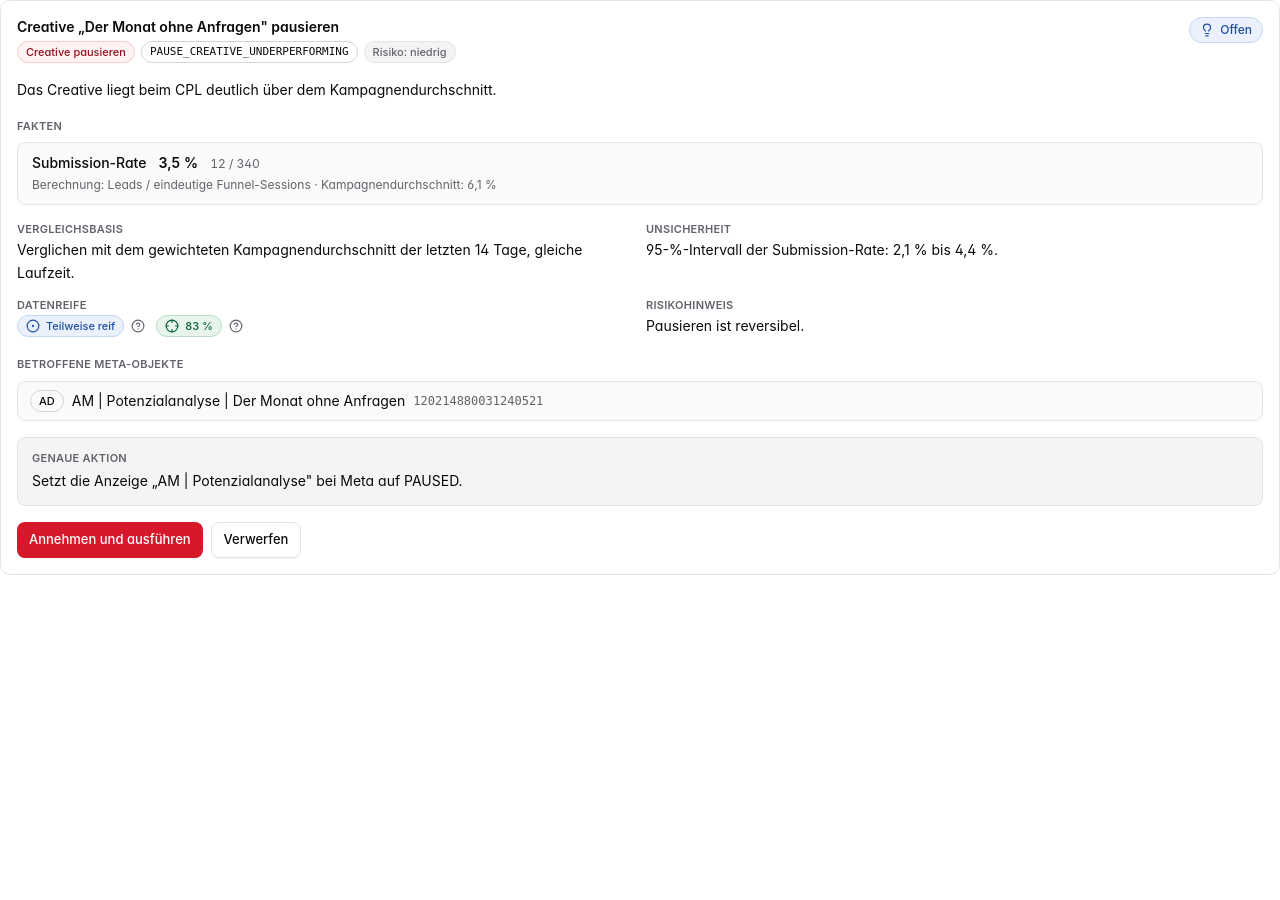
Test: RecommendationCard › opens a confirmation dialog and executes nothing until it is confirmed
The width and height of the screenshot is (1280, 900).
Later steps or results of the test are not shown.
Click the button "Annehmen und ausführen" at {"x": 110, "y": 540}, box top-left (17, 522), bottom-right (203, 558)
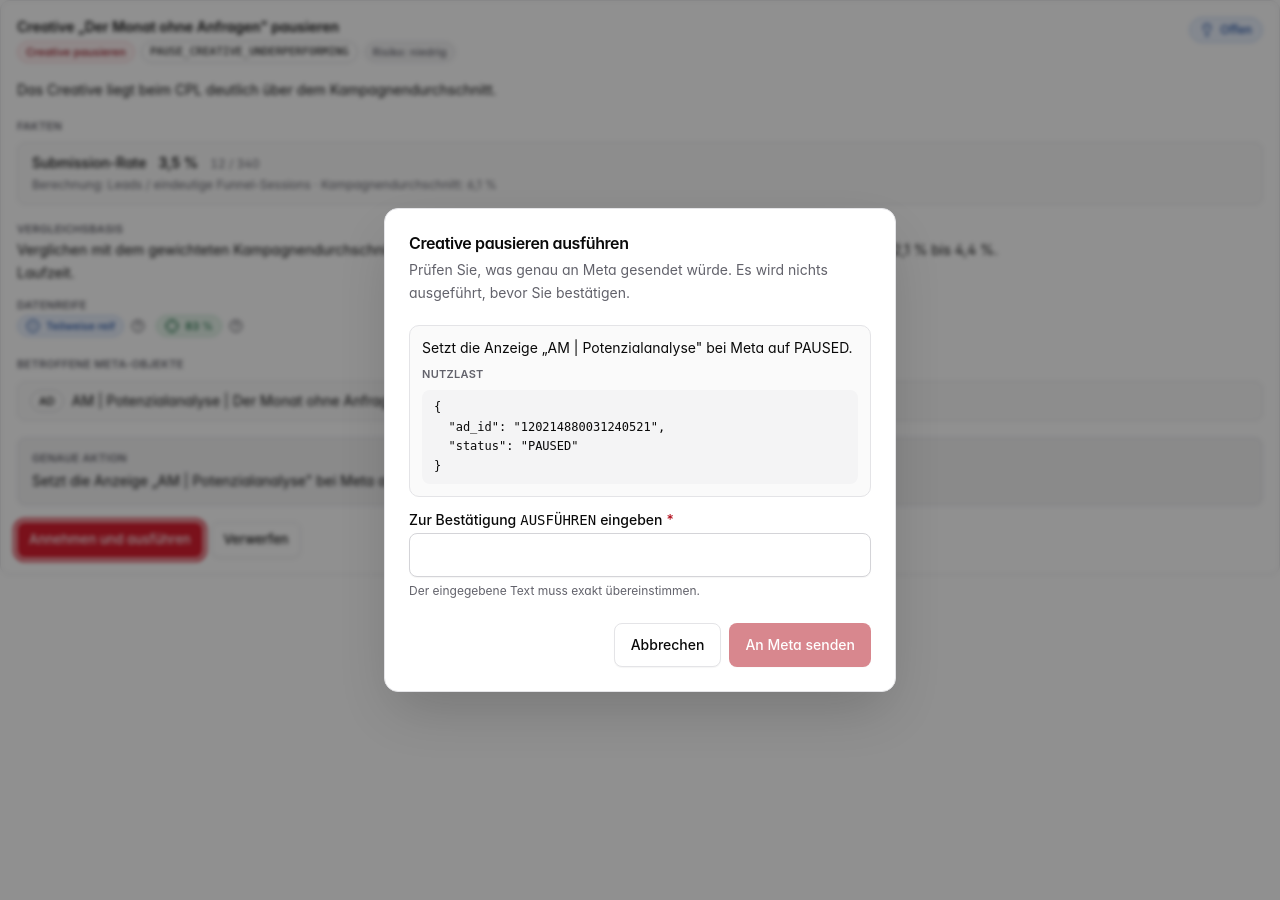
expect the dialog shows "Creative pausieren ausführen": met, box top-left (409, 233), bottom-right (629, 253)
expect the dialog shows "\"ad_id\": \"120214880031240521\"": met, box top-left (434, 400), bottom-right (665, 472)
expect the button "An Meta senden" is disabled: met, box top-left (729, 623), bottom-right (871, 667)
